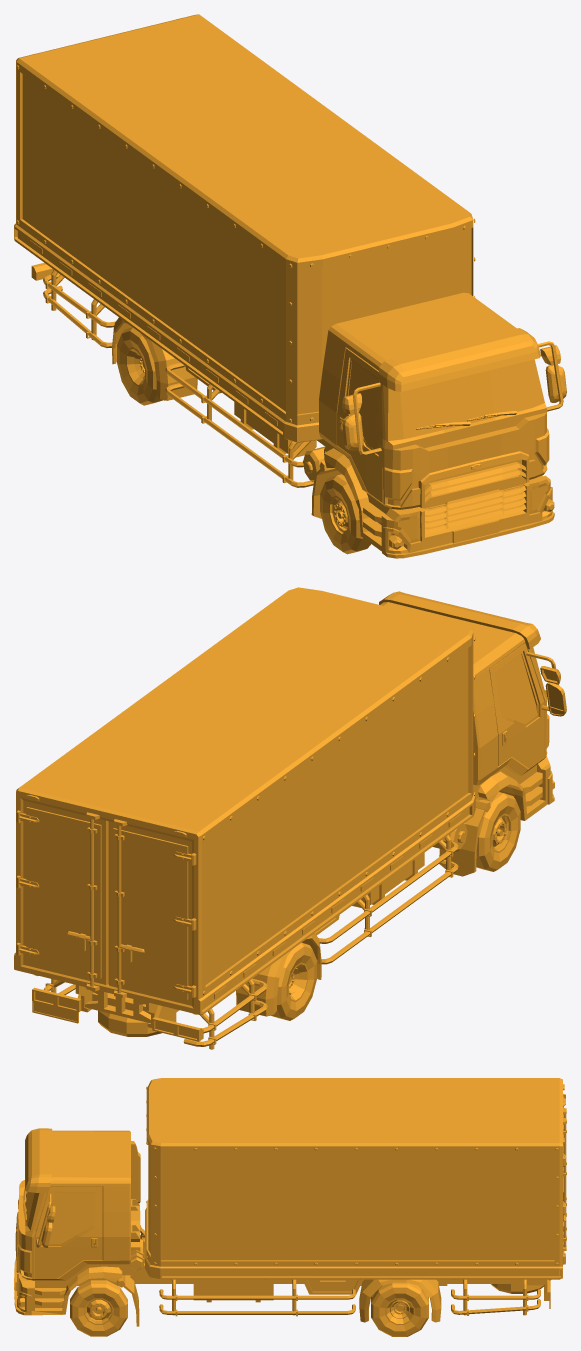
Rendered from SM_Car_Truck_Modern_Box.fbx.
The picture shows the model from 3 angles, top to bottom: view 1: azimuth 30°, elevation 25°; view 2: azimuth 150°, elevation 25°; view 3: azimuth 270°, elevation 25°; orthographic projection. The views are drawn at different scales.
Parts seen in each view (by area): view 1: truck-modern-box-base, truck-modern-box-door-right, truck-modern-box-wheel-rfr, truck-modern-box-wheel-rba, truck-modern-box-door-left; view 2: truck-modern-box-base, truck-modern-box-door-lba, truck-modern-box-door-rba, truck-modern-box-door-right, truck-modern-box-wheel-rfr, truck-modern-box-wheel-rba; view 3: truck-modern-box-base, truck-modern-box-door-left, truck-modern-box-wheel-lfr, truck-modern-box-wheel-lba, truck-modern-box-door-lba.
Boxes of the visible parts, bbox=[...] form: truck-modern-box-base: bbox=[14, 14, 554, 558]; truck-modern-box-door-right: bbox=[337, 348, 383, 502]; truck-modern-box-wheel-rfr: bbox=[320, 474, 370, 554]; truck-modern-box-wheel-rba: bbox=[117, 327, 164, 405]; truck-modern-box-door-left: bbox=[538, 341, 566, 411]; truck-modern-box-base: bbox=[14, 587, 554, 1049]; truck-modern-box-door-lba: bbox=[19, 800, 108, 986]; truck-modern-box-door-rba: bbox=[108, 821, 192, 1005]; truck-modern-box-door-right: bbox=[489, 643, 566, 768]; truck-modern-box-wheel-rfr: bbox=[476, 792, 520, 871]; truck-modern-box-wheel-rba: bbox=[271, 942, 317, 1020]; truck-modern-box-base: bbox=[14, 1078, 566, 1326]; truck-modern-box-door-left: bbox=[35, 1186, 102, 1278]; truck-modern-box-wheel-lfr: bbox=[70, 1280, 127, 1336]; truck-modern-box-wheel-lba: bbox=[371, 1282, 428, 1336]; truck-modern-box-door-lba: bbox=[563, 1124, 566, 1264].
Bounding box in the file's own units: 3.28 × 3.8 × 9.62.
